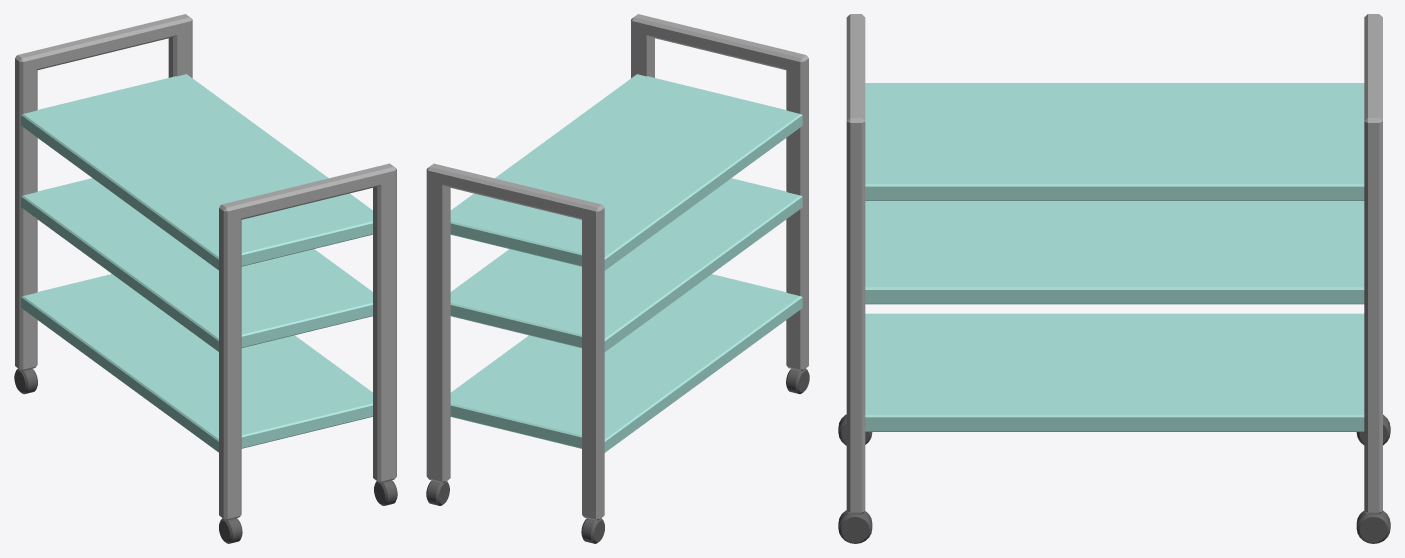
The model's file is Cart (updated).fbx.
3 renders of one model, left to right at view 1: azimuth 30°, elevation 25°; view 2: azimuth 150°, elevation 25°; view 3: azimuth 270°, elevation 25°, orthographic. The views are drawn at different scales.
Visible parts, largest first — view 1: Cart; view 2: Cart; view 3: Cart.
Part boxes in pixels (x1=…): Cart: x1=14, y1=14, x2=397, y2=543; Cart: x1=426, y1=14, x2=809, y2=543; Cart: x1=838, y1=14, x2=1390, y2=543.
Bounding box in the file's own units: 194 × 360 × 421.
